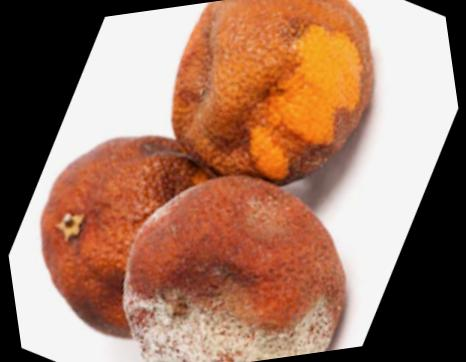Orange Rotten: (92, 155, 360, 362), (149, 0, 400, 219), (23, 111, 232, 352)
